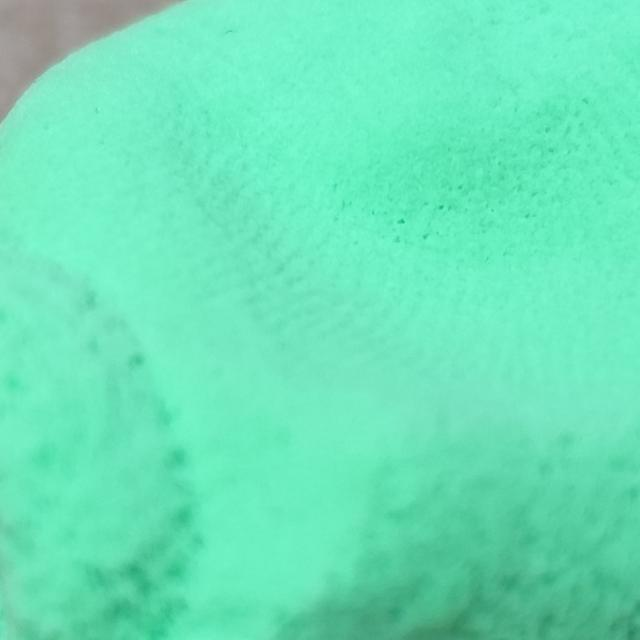good: (0, 0, 640, 640)
